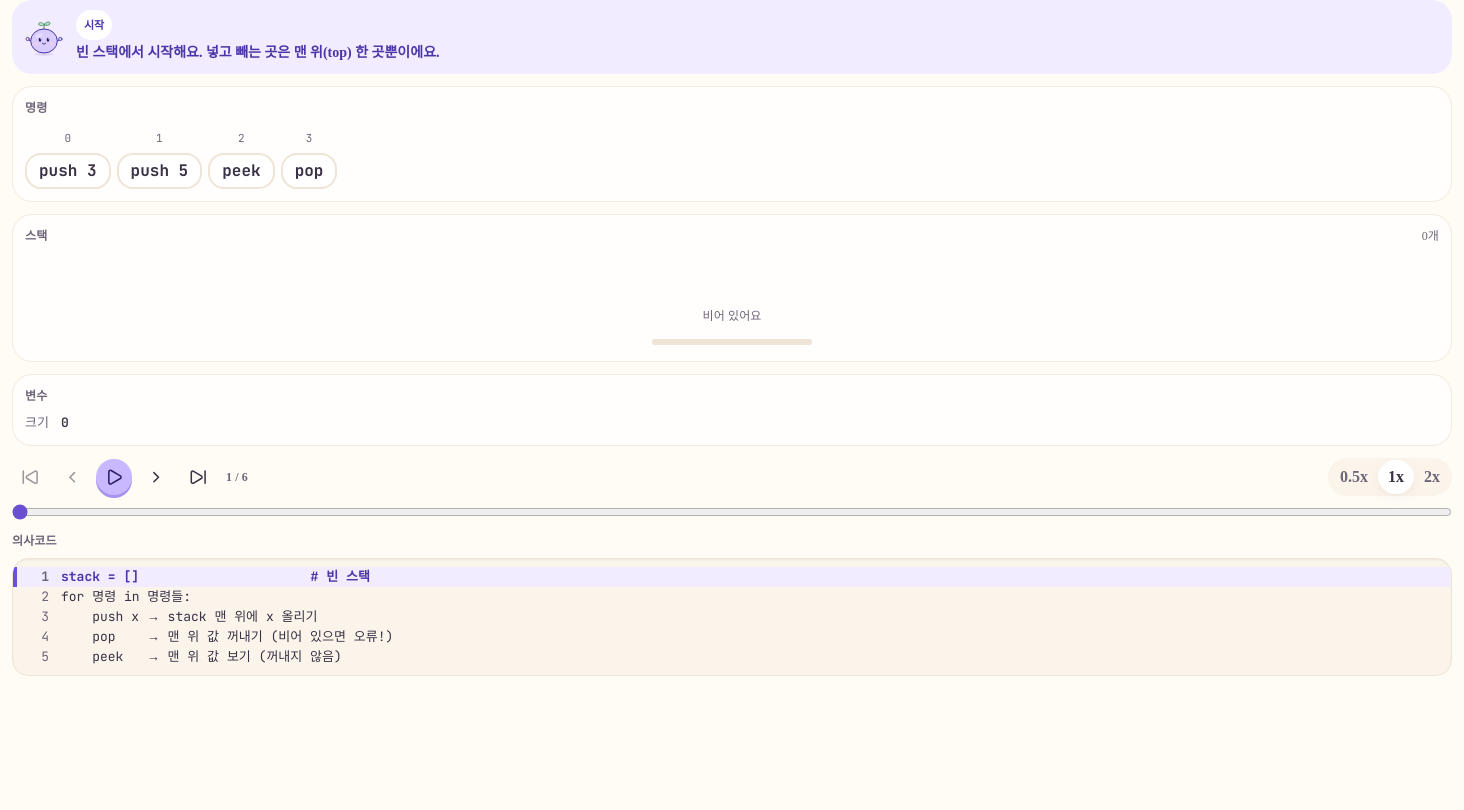
Scenario: Player › Space로 재생·일시정지하고, 재생 중에는 속도에 맞춰 자동으로 넘어간다
Press Space in the element named "한 단계씩 보기"
Wait 900 ms
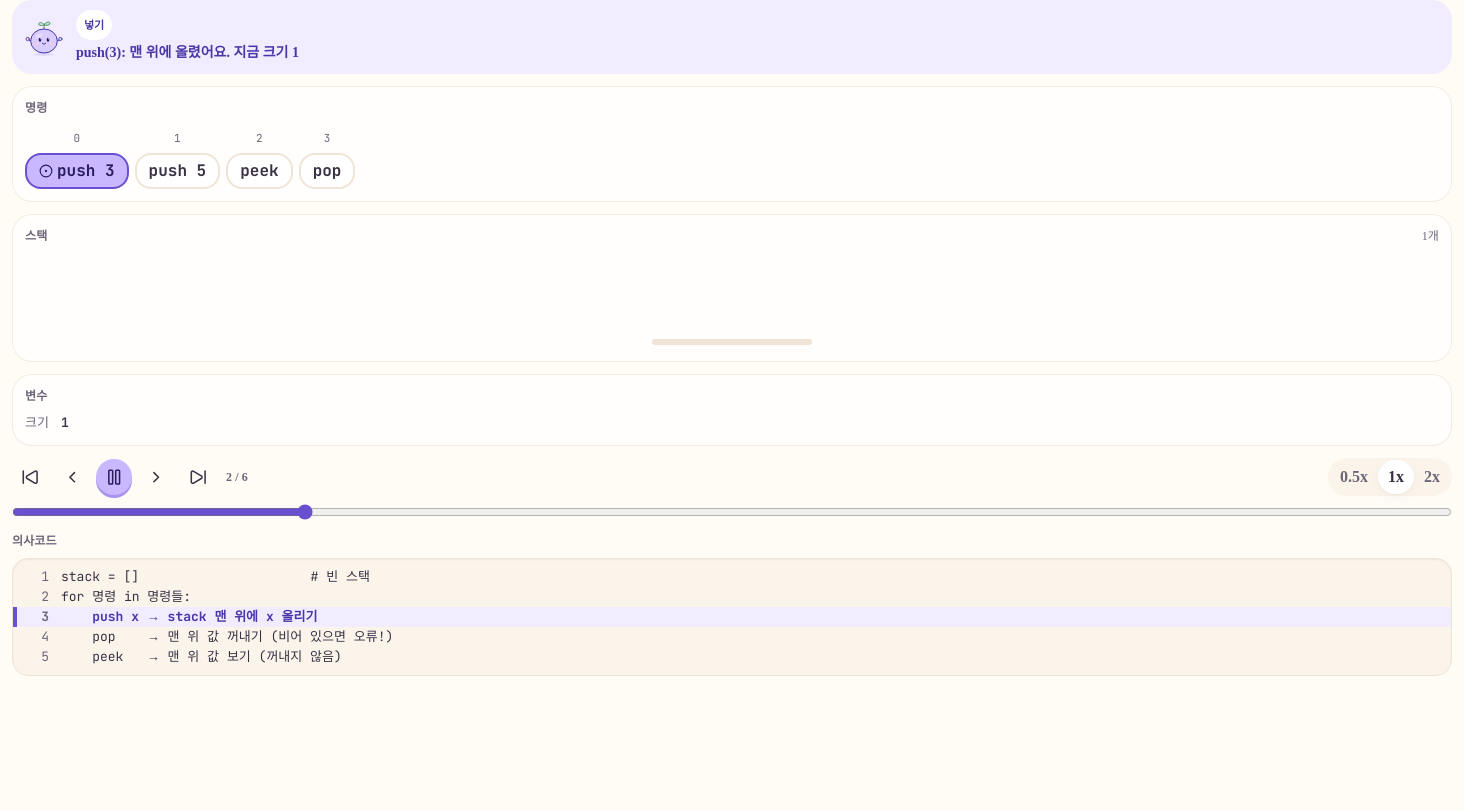
Check: the button named "일시정지" is shown, box left=96, top=459, right=132, bottom=495
Click the button "2x".
click(1432, 477)  # box left=1414, top=460, right=1450, bottom=494
Wait 450 ms
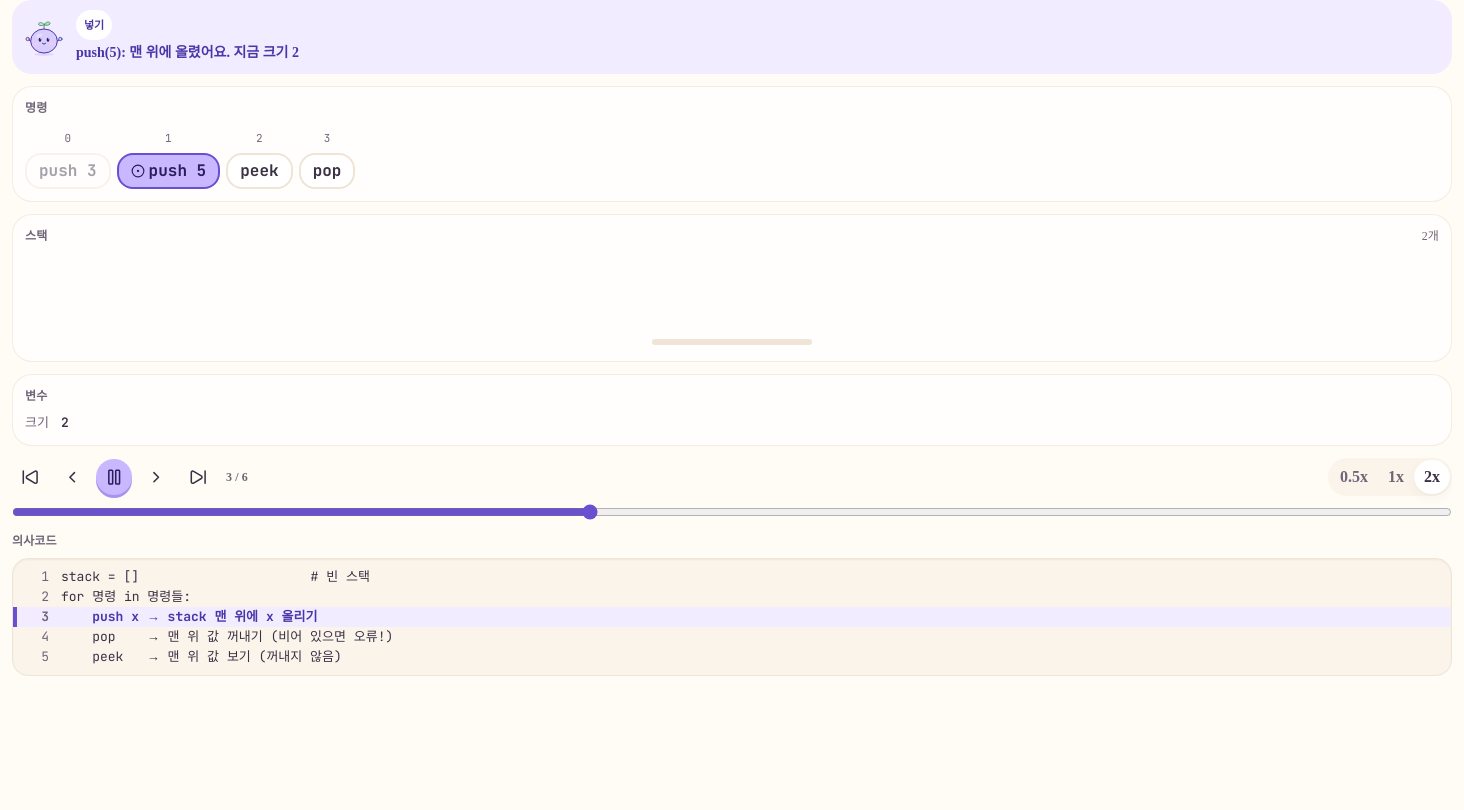
Press Space in the element named "한 단계씩 보기"
Wait 2700 ms
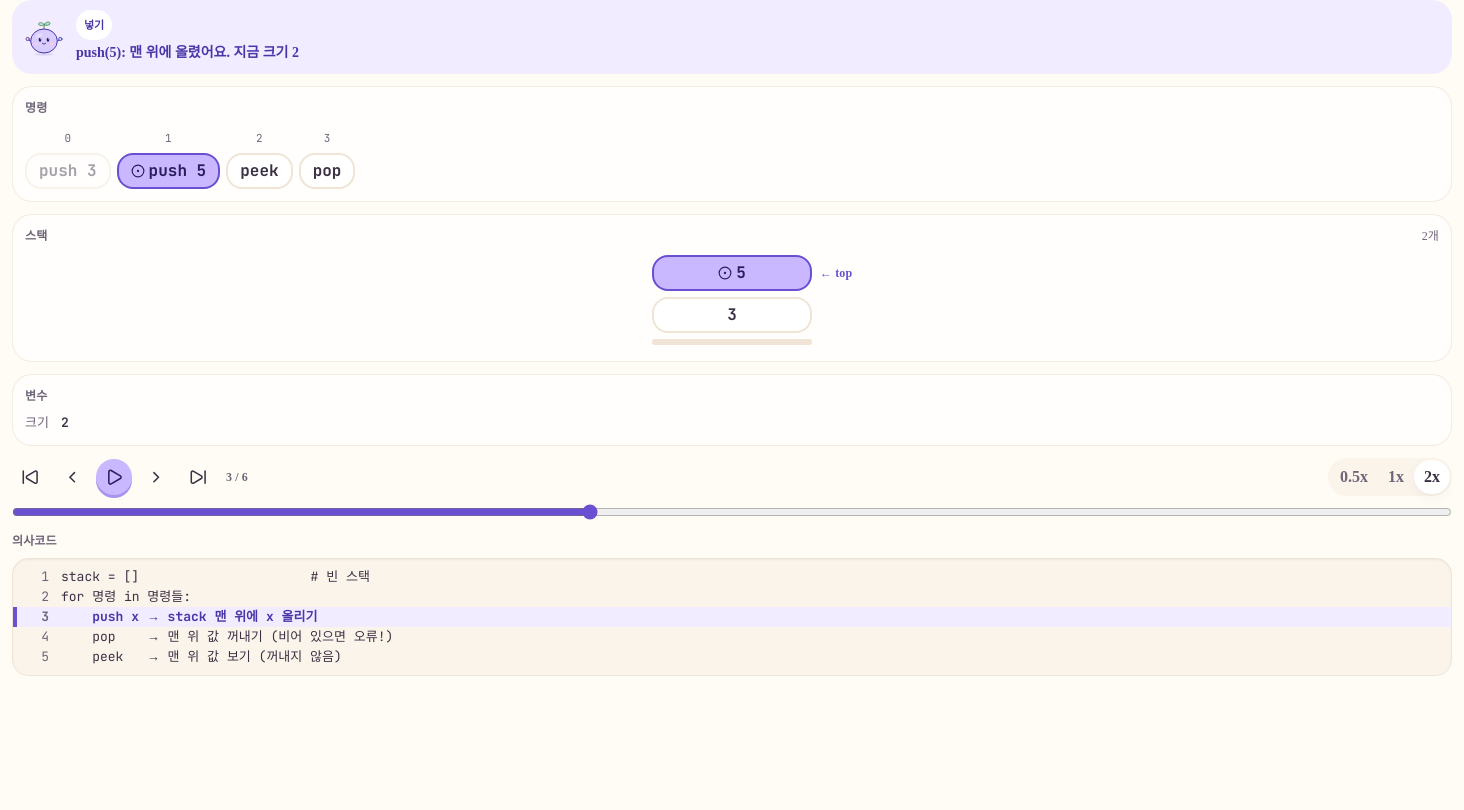
Check: the button named "재생" is shown, box left=96, top=459, right=132, bottom=495
